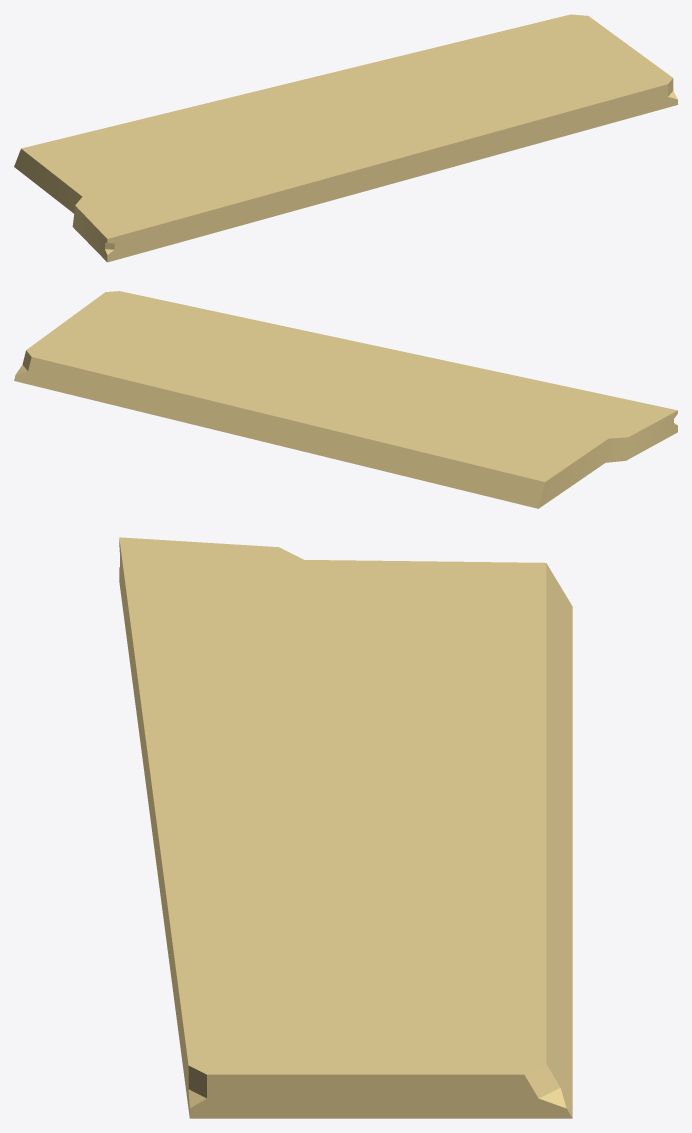
File: Carved_Stones_5.fbx
3 renders of one model, top to bottom at view 1: azimuth 30°, elevation 25°; view 2: azimuth 150°, elevation 25°; view 3: azimuth 270°, elevation 25°, orthographic. The views are drawn at different scales.
Parts seen in each view (by area): view 1: MESH_Carved_Stones_5; view 2: MESH_Carved_Stones_5; view 3: MESH_Carved_Stones_5.
Part boxes in pixels (left/top/right/bottom): MESH_Carved_Stones_5: left=14, top=14, right=677, bottom=262; MESH_Carved_Stones_5: left=14, top=291, right=677, bottom=508; MESH_Carved_Stones_5: left=119, top=537, right=572, bottom=1118.
Size of the model in its own units: 7.99 by 0.3042 by 2.85.
